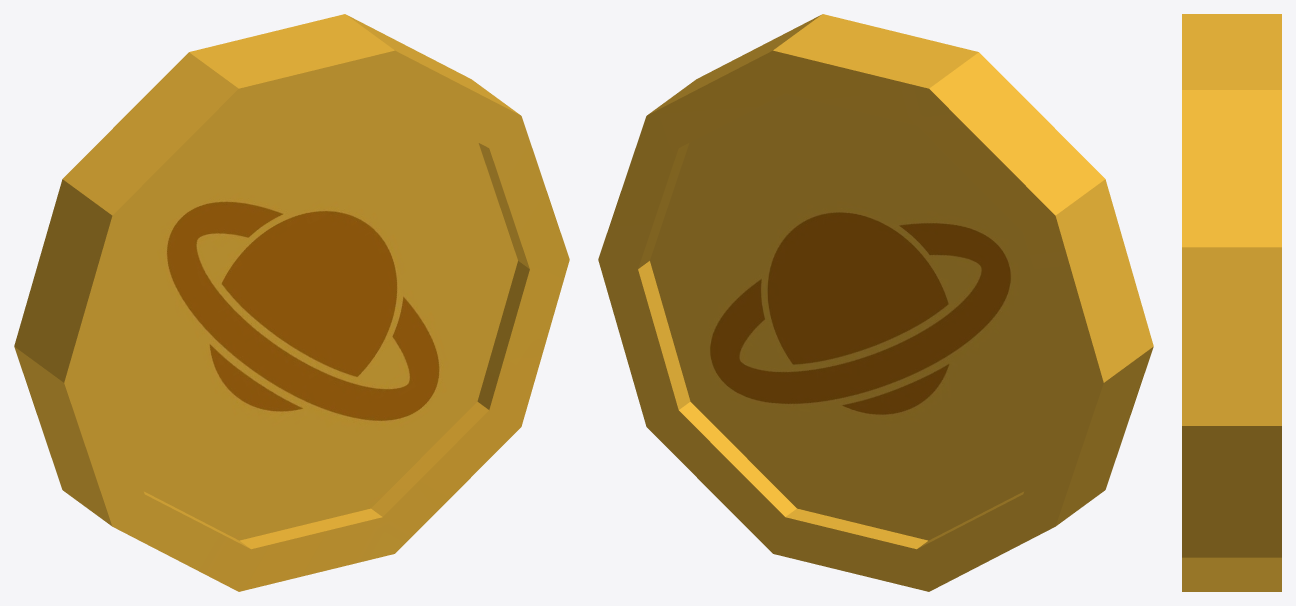
Rendered from Coin.fbx.
3 views of the same model, side by side, from view 1: azimuth 30°, elevation 25°; view 2: azimuth 150°, elevation 25°; view 3: azimuth 270°, elevation 25° (orthographic).
Parts seen in each view (by area): view 1: gold; view 2: gold; view 3: gold.
Part boxes in pixels (x1,y1,x2,y2): gold: [14, 14, 569, 591]; gold: [598, 14, 1153, 591]; gold: [1182, 14, 1281, 591].
Size of the model in its own units: 100 by 95.11 by 17.12.
Materials: 1 (1 with a texture image).
